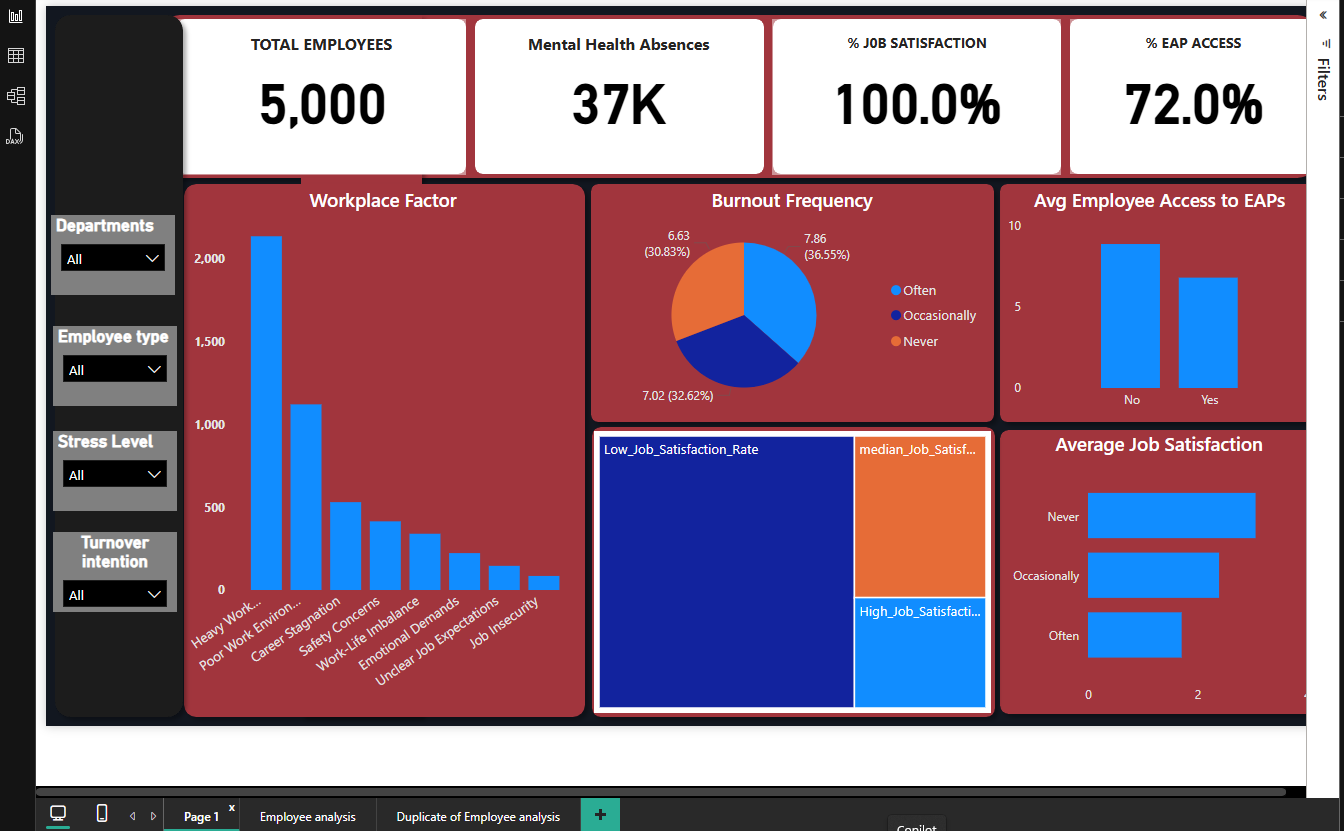

The page's visual inventory and layout, read from the dashboard file:
{"tool":"powerbi","page":{"name":"Page 1","canvas":[1280,720],"ordinal":0},"visuals":[{"type":"shape","box":[945,415,335,302],"z":0},{"type":"shape","box":[105,0,1175,180.9],"z":1000},{"type":"shape","box":[246,0,139,720],"z":2000},{"type":"shape","box":[131,13,289,155],"z":3000},{"type":"shape","box":[428.8,12.6,288.9,155.6],"z":4000},{"type":"shape","box":[726.5,12.6,288.9,155.6],"z":5000},{"type":"shape","box":[1024.2,12.6,247.1,155.6],"z":6000},{"type":"card","fields":{"Values":["Measures (3).Total Employee"]},"box":[131,13,289,156],"z":7000},{"type":"card","fields":{"Values":["Measures (3).Total mental health absence"]},"box":[428,13,289,156],"z":8000},{"type":"textbox","box":[131,22,289,45],"z":9000},{"type":"textbox","box":[428,22,289,45],"z":10000},{"type":"card","fields":{"Values":["Measures (3).Job_Satisfaction_Percentage"]},"box":[726,13,289,156],"z":11000},{"type":"textbox","box":[727,22,288,48],"z":12000},{"type":"card","fields":{"Values":["Measures (3).EAP_Access_Percentage"]},"box":[1024,13,247,155],"z":13000},{"type":"textbox","box":[1024,22,247,48],"z":14000},{"type":"shape","box":[129,169,419,551],"z":15000},{"type":"clusteredColumnChart","title":"Workplace Factor","fields":{"Y":["CountNonNull(Healthcare Workforce Mental Health Dataset.Stress Level)"],"Category":["Healthcare Workforce Mental Health Dataset.Workplace Factor"]},"box":[139,181,396,526],"z":16000},{"type":"shape","box":[945,169,335,256],"z":17000},{"type":"shape","box":[536,169,421,256],"z":18000},{"type":"pieChart","title":" Burnout Frequency","fields":{"Category":["Healthcare Workforce Mental Health Dataset.Burnout Frequency"],"Y":["Avg(Healthcare Workforce Mental Health Dataset.Stress Level)"]},"box":[547,181,398,231],"z":19000},{"type":"shape","box":[537,412,421,308],"z":20000},{"type":"barChart","title":"Average Job Satisfaction","fields":{"Category":["Healthcare Workforce Mental Health Dataset.Burnout Frequency"],"Y":["Avg(Healthcare Workforce Mental Health Dataset.Job Satisfaction)"]},"box":[956,425,314,282],"z":21000},{"type":"columnChart","title":"Avg Employee Access to EAPs","fields":{"Category":["Healthcare Workforce Mental Health Dataset.Access to EAPs"],"Y":["Avg(Healthcare Workforce Mental Health Dataset.Mental Health Absences)"]},"box":[957,181,313,231],"z":22000},{"type":"treemap","fields":{"Values":["Measures (3).High_Job_Satisfaction_Rate","Measures (3).Low_Job_Satisfaction_Rate","Measures (3).median_Job_Satisfaction_Rate"]},"box":[548,425,397,282],"z":23000},{"type":"shape","box":[0,0,146,720],"z":24000},{"type":"slicer","title":"Departments","fields":{"Values":["Healthcare Workforce Mental Health Dataset.Department"]},"box":[5,209,124,80],"z":25000},{"type":"slicer","title":"Employee  type","fields":{"Values":["Healthcare Workforce Mental Health Dataset.Employee Type"]},"box":[7,320,124,80],"z":26000},{"type":"slicer","title":"Stress Level","fields":{"Values":["Healthcare Workforce Mental Health Dataset.Stress Level"]},"box":[7,425,124,80],"z":27000},{"type":"slicer","title":"Turnover intention","fields":{"Values":["Healthcare Workforce Mental Health Dataset.Turnover Intention"]},"box":[7,526,124,80],"z":28000}]}

Visuals, with their boxes on the page's 1280x720 design canvas (x1, y1, x2, y2). These are canvas units, not pixel positions in the 1344x831 screenshot, which may show the page scaled, cropped or inside an application window:
shape: Rect(945, 415, 1280, 717)
shape: Rect(105, 0, 1280, 181)
shape: Rect(246, 0, 385, 720)
shape: Rect(131, 13, 420, 168)
shape: Rect(429, 13, 718, 168)
shape: Rect(726, 13, 1015, 168)
shape: Rect(1024, 13, 1271, 168)
card - Measures (3).Total Employee: Rect(131, 13, 420, 169)
card - Measures (3).Total mental health absence: Rect(428, 13, 717, 169)
textbox: Rect(131, 22, 420, 67)
textbox: Rect(428, 22, 717, 67)
card - Measures (3).Job_Satisfaction_Percentage: Rect(726, 13, 1015, 169)
textbox: Rect(727, 22, 1015, 70)
card - Measures (3).EAP_Access_Percentage: Rect(1024, 13, 1271, 168)
textbox: Rect(1024, 22, 1271, 70)
shape: Rect(129, 169, 548, 720)
"Workplace Factor" clusteredColumnChart: Rect(139, 181, 535, 707)
shape: Rect(945, 169, 1280, 425)
shape: Rect(536, 169, 957, 425)
" Burnout Frequency" pieChart: Rect(547, 181, 945, 412)
shape: Rect(537, 412, 958, 720)
"Average Job Satisfaction" barChart: Rect(956, 425, 1270, 707)
"Avg Employee Access to EAPs" columnChart: Rect(957, 181, 1270, 412)
treemap - Measures (3).High_Job_Satisfaction_Rate x Measures (3).Low_Job_Satisfaction_Rate: Rect(548, 425, 945, 707)
shape: Rect(0, 0, 146, 720)
"Departments" slicer: Rect(5, 209, 129, 289)
"Employee  type" slicer: Rect(7, 320, 131, 400)
"Stress Level" slicer: Rect(7, 425, 131, 505)
"Turnover intention" slicer: Rect(7, 526, 131, 606)
